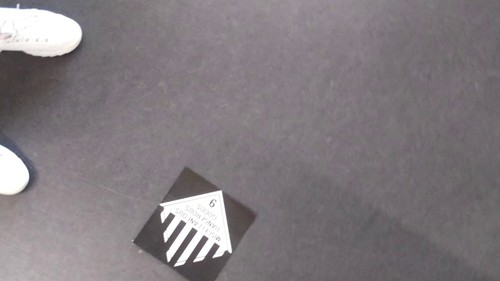misgoods: (155, 198, 240, 267)
